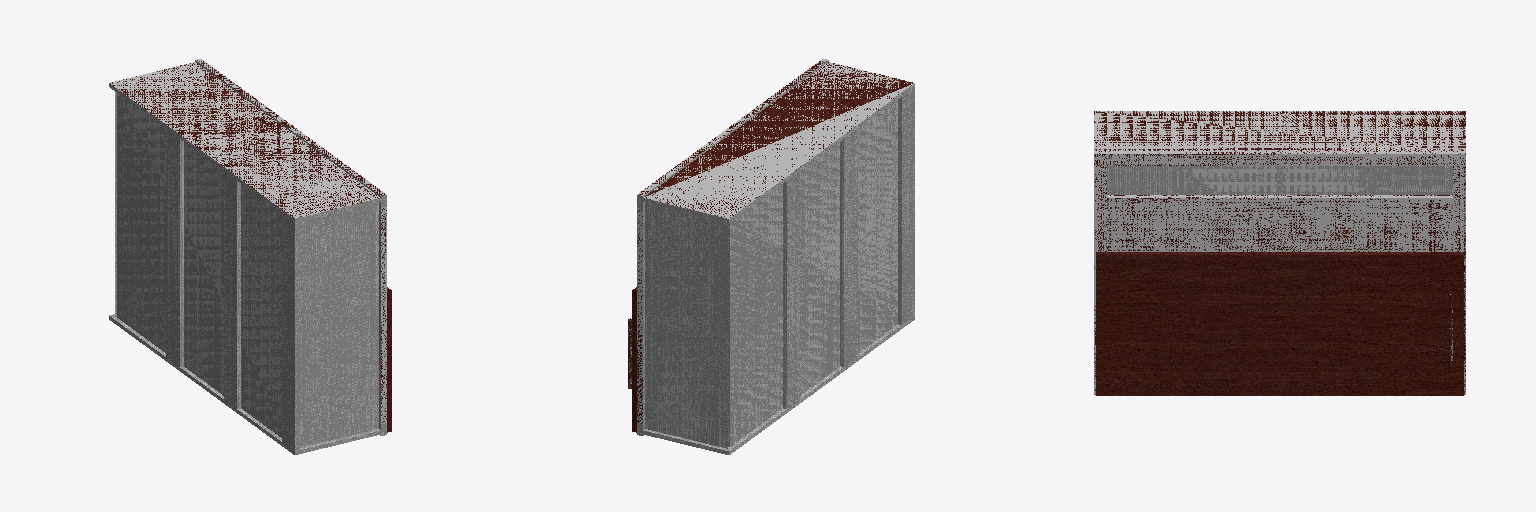
3 views of the same model, side by side, from view 1: azimuth 30°, elevation 25°; view 2: azimuth 150°, elevation 25°; view 3: azimuth 270°, elevation 25° (orthographic).
Parts seen in each view (by area): view 1: mesh6.001_mesh6-geometry, mesh2.002_mesh2-geometry, mesh8.001_mesh8-geometry, mesh3.003_mesh3-geometry, mesh3.001_mesh3-geometry, mesh3.002_mesh3-geometry, mesh7.001_mesh7-geometry, mesh4.002_mesh4-geometry, mesh9.001_mesh9-geometry, mesh16.002_mesh16-geometry; view 2: mesh6.001_mesh6-geometry, mesh1.001_mesh1-geometry, mesh8.001_mesh8-geometry, mesh3.002_mesh3-geometry, mesh3.003_mesh3-geometry, mesh3.001_mesh3-geometry, mesh7.001_mesh7-geometry, mesh4.001_mesh4-geometry, mesh9.001_mesh9-geometry, mesh16.002_mesh16-geometry, mesh17_mesh17-geometry; view 3: mesh16.002_mesh16-geometry, mesh11.001_mesh11-geometry, mesh8.001_mesh8-geometry, mesh5.001_mesh5-geometry, mesh9.001_mesh9-geometry, mesh4.002_mesh4-geometry, mesh4.001_mesh4-geometry.
Boxes of the visible parts, <box> form: mesh6.001_mesh6-geometry: <box>117,93,281,437</box>; mesh2.002_mesh2-geometry: <box>299,203,378,447</box>; mesh8.001_mesh8-geometry: <box>109,62,380,222</box>; mesh3.003_mesh3-geometry: <box>166,129,183,366</box>; mesh3.001_mesh3-geometry: <box>282,214,298,450</box>; mesh3.002_mesh3-geometry: <box>224,171,240,408</box>; mesh7.001_mesh7-geometry: <box>109,314,380,454</box>; mesh4.002_mesh4-geometry: <box>379,207,386,423</box>; mesh9.001_mesh9-geometry: <box>195,59,386,207</box>; mesh16.002_mesh16-geometry: <box>387,287,391,432</box>; mesh6.001_mesh6-geometry: <box>730,100,897,446</box>; mesh1.001_mesh1-geometry: <box>645,203,727,448</box>; mesh8.001_mesh8-geometry: <box>643,62,914,222</box>; mesh3.002_mesh3-geometry: <box>840,129,857,366</box>; mesh3.003_mesh3-geometry: <box>783,171,799,408</box>; mesh3.001_mesh3-geometry: <box>898,87,914,324</box>; mesh7.001_mesh7-geometry: <box>643,316,914,454</box>; mesh4.001_mesh4-geometry: <box>637,207,644,423</box>; mesh9.001_mesh9-geometry: <box>637,59,828,207</box>; mesh16.002_mesh16-geometry: <box>632,287,636,432</box>; mesh17_mesh17-geometry: <box>822,300,832,377</box>; mesh16.002_mesh16-geometry: <box>1096,252,1463,395</box>; mesh11.001_mesh11-geometry: <box>1107,195,1452,251</box>; mesh8.001_mesh8-geometry: <box>1094,111,1465,150</box>; mesh5.001_mesh5-geometry: <box>1107,166,1452,194</box>; mesh9.001_mesh9-geometry: <box>1094,151,1465,165</box>; mesh4.002_mesh4-geometry: <box>1094,166,1106,382</box>; mesh4.001_mesh4-geometry: <box>1453,166,1465,382</box>.
Bounding box in the file's own units: 0.264 × 0.5606 × 0.7849.
Materials: 6 (1 with a texture image).